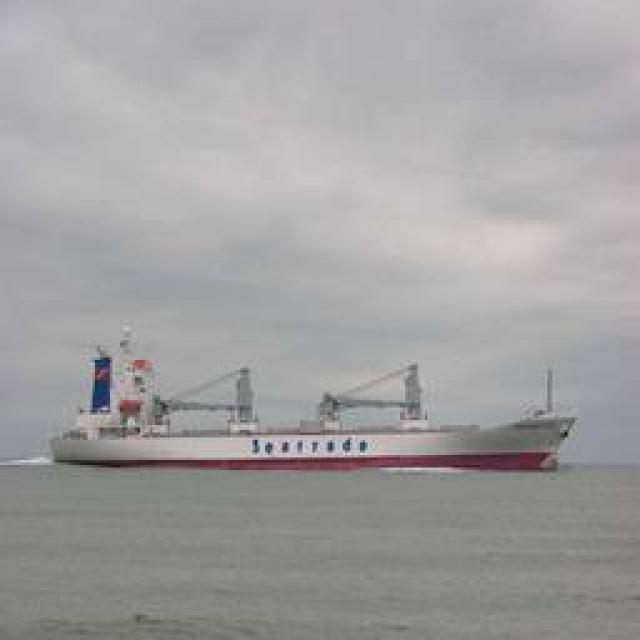Ship: (52, 344, 585, 474)
